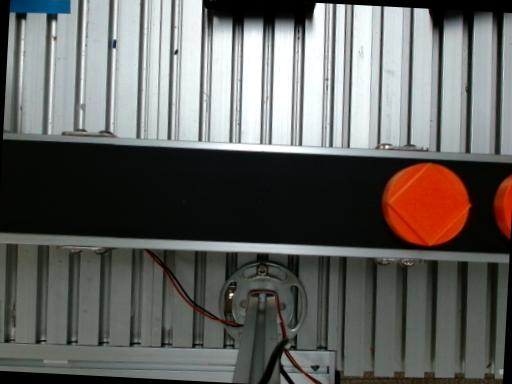Orange_Waper: (381, 163, 470, 246), (493, 174, 512, 239)
Square: (384, 163, 472, 245)
